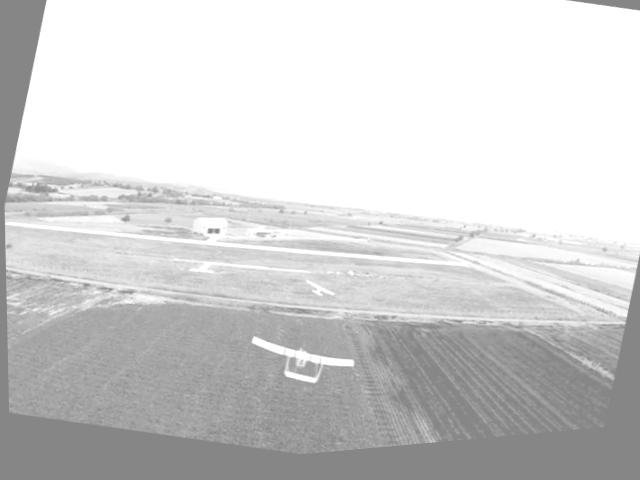hedef: (233, 319, 366, 422)
